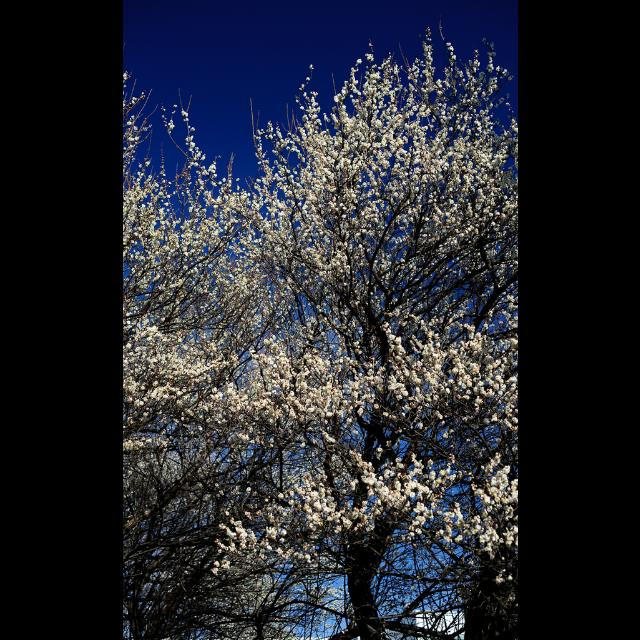Flower: (250, 42, 518, 588), (122, 105, 250, 579), (253, 298, 317, 380)
